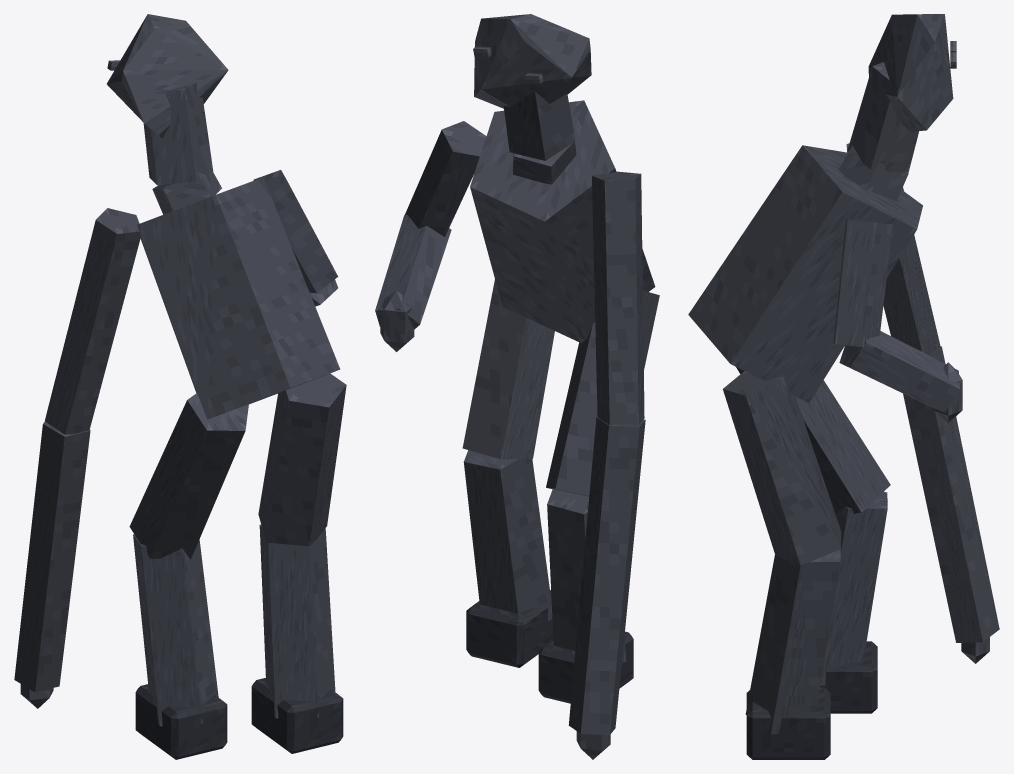
The model's file is f_glassedbody_15.glb.
The picture shows the model from 3 angles, left to right: view 1: azimuth 30°, elevation 25°; view 2: azimuth 150°, elevation 25°; view 3: azimuth 270°, elevation 25°; orthographic projection. The views are drawn at different scales.
Parts seen in each view (by area): view 1: block_angular-torso-1, block_faceted-glass-leg-1 (×2), block_faceted-glass-leg-2 (×2), block_angular-glass-arm-1 (×2), block_angular-glass-arm-2, block_solid-glass-foot (×2), block_angular-black-glass-head, block_vitrified-neck-2, block_vitrified-neck-1; view 2: block_angular-torso-1, block_angular-glass-arm-2 (×2), block_angular-glass-arm-1 (×2), block_faceted-glass-leg-2 (×2), block_faceted-glass-leg-1 (×2), block_angular-black-glass-head, block_solid-glass-foot (×2), block_vitrified-neck-2, block_glass-hand (×2), block_vitrified-neck-1; view 3: block_angular-torso-1, block_faceted-glass-leg-2 (×2), block_faceted-glass-leg-1 (×2), block_angular-glass-arm-2 (×2), block_angular-glass-arm-1 (×2), block_solid-glass-foot (×2), block_angular-black-glass-head, block_vitrified-neck-2, block_vitrified-neck-1, block_glass-hand.
Boxes of the visible parts, x1,y1,x2,y2 form: block_angular-torso-1: (137, 177, 340, 419); block_faceted-glass-leg-1 (×2): (133, 524, 335, 726); block_faceted-glass-leg-2 (×2): (129, 373, 346, 559); block_angular-glass-arm-1 (×2): (45, 170, 337, 434); block_angular-glass-arm-2: (14, 421, 90, 692); block_solid-glass-foot (×2): (135, 678, 343, 759); block_angular-black-glass-head: (107, 14, 228, 138); block_vitrified-neck-2: (143, 82, 213, 185); block_vitrified-neck-1: (152, 172, 221, 214); block_angular-torso-1: (470, 100, 655, 342); block_angular-glass-arm-2 (×2): (375, 215, 645, 735); block_angular-glass-arm-1 (×2): (405, 121, 644, 424); block_faceted-glass-leg-2 (×2): (462, 279, 659, 496); block_faceted-glass-leg-1 (×2): (463, 450, 626, 663); block_angular-black-glass-head: (474, 14, 591, 108); block_solid-glass-foot (×2): (466, 590, 633, 703); block_vitrified-neck-2: (503, 91, 575, 160); block_glass-hand (×2): (380, 290, 610, 759); block_vitrified-neck-1: (513, 142, 576, 184); block_angular-torso-1: (688, 145, 922, 402); block_faceted-glass-leg-2 (×2): (723, 367, 890, 565); block_faceted-glass-leg-1 (×2): (745, 491, 887, 734); block_angular-glass-arm-2 (×2): (839, 331, 999, 642); block_angular-glass-arm-1 (×2): (833, 143, 940, 355); block_solid-glass-foot (×2): (746, 641, 877, 759); block_angular-black-glass-head: (868, 14, 953, 131); block_vitrified-neck-2: (847, 62, 918, 172); block_vitrified-neck-1: (838, 145, 908, 201); block_glass-hand: (934, 362, 962, 422).
Bounding box in the file's own units: 0.5796 × 1.46 × 0.5907.
1 material, 1 textured.
